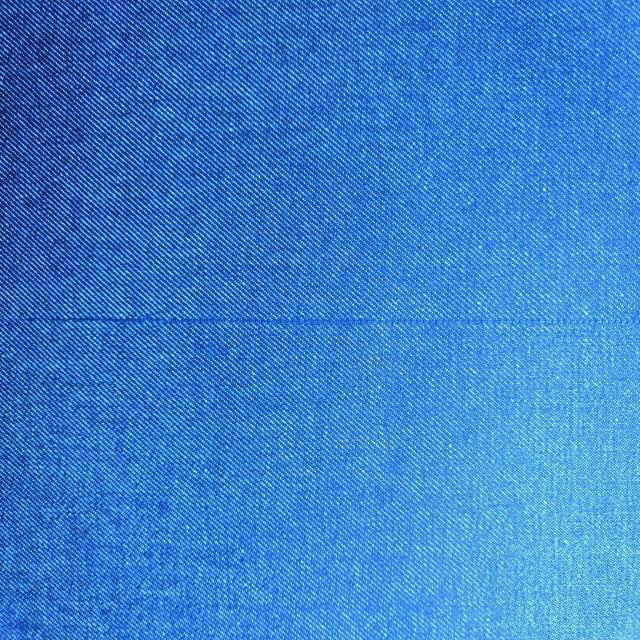Line: (0, 311, 640, 325)
